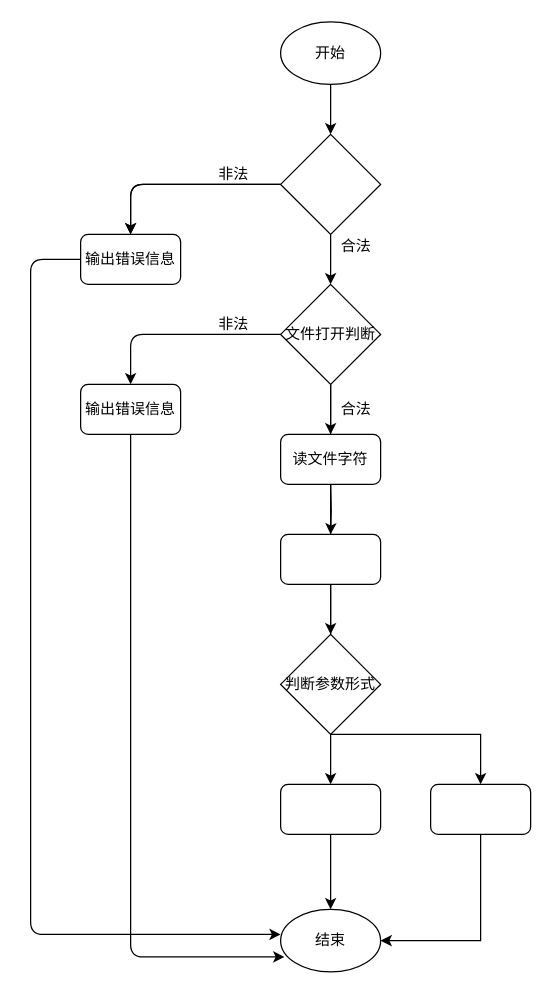
This 553x994 diagram has some shape labels left out. The shapes that lost their labels are listed below. From the top down, each one's centre as x and y in pixels, then its label:
At point 330,183: "参数个数判断".
At point 330,558: "统计文件字符数".
At point 330,808: "输出字符数".
At point 480,808: "输出单词数".
